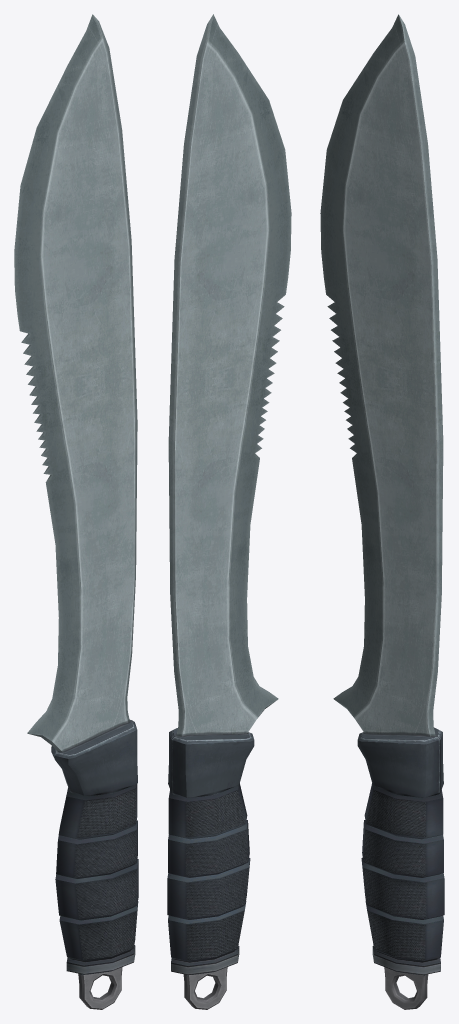
The model's file is Machete.FBX.
3 views of the same model, side by side, from view 1: azimuth 30°, elevation 25°; view 2: azimuth 210°, elevation 25°; view 3: azimuth 330°, elevation 25° (orthographic).
Visible parts, largest first — view 1: Machete; view 2: Machete; view 3: Machete.
Part boxes in pixels (x1,y1,x2,y2): Machete: (14, 14, 138, 1009); Machete: (167, 14, 291, 1009); Machete: (320, 14, 444, 1009).
Size of the model in its own units: 61.22 by 468 by 22.28.
